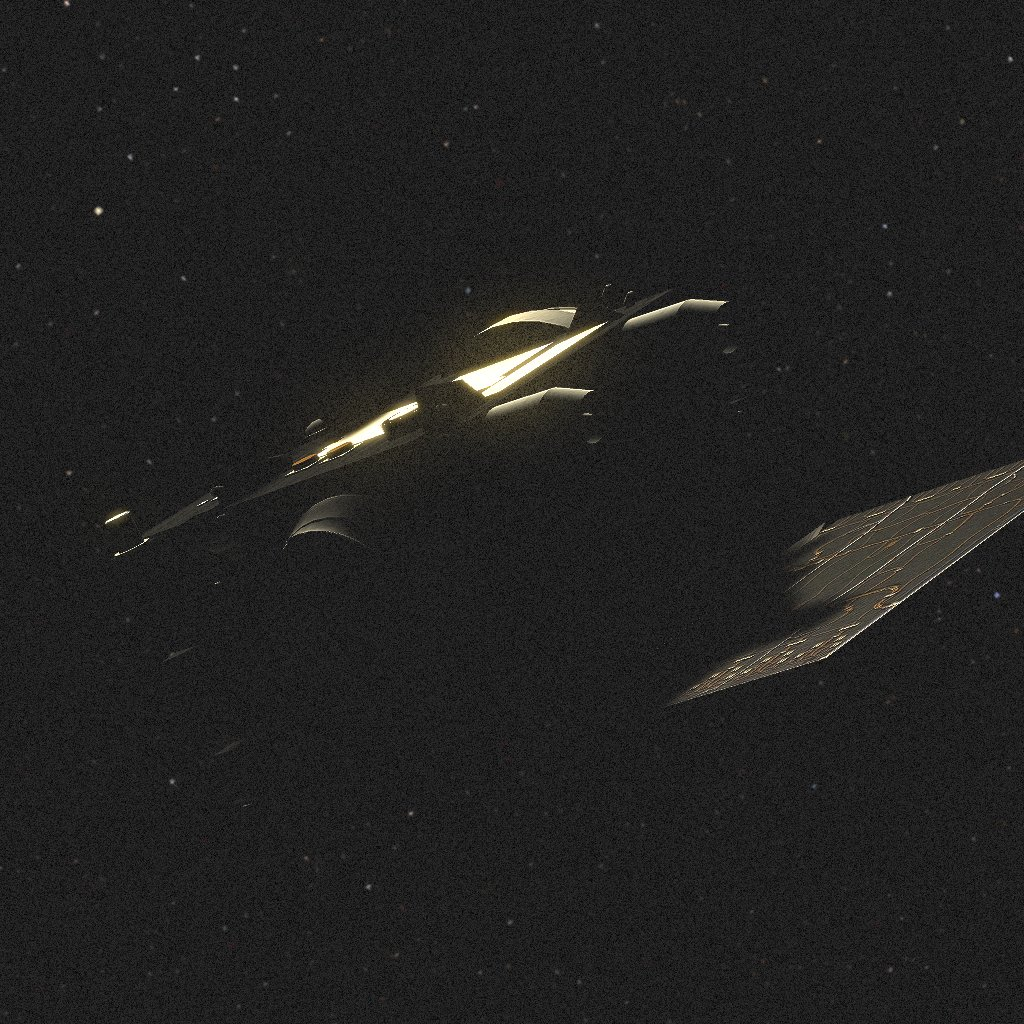proba_3_csc: (105, 284, 1024, 835)
